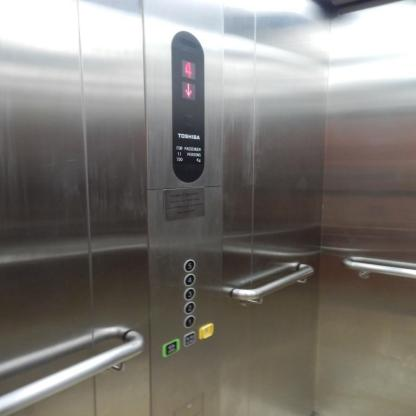1: (181, 314, 195, 328)
2: (182, 300, 196, 314)
3: (182, 286, 196, 300)
4: (183, 272, 196, 286)
5: (182, 258, 196, 272)
blur: (197, 321, 215, 340)
close: (182, 330, 196, 348)
led: (169, 28, 207, 184)
open: (160, 338, 180, 357)
